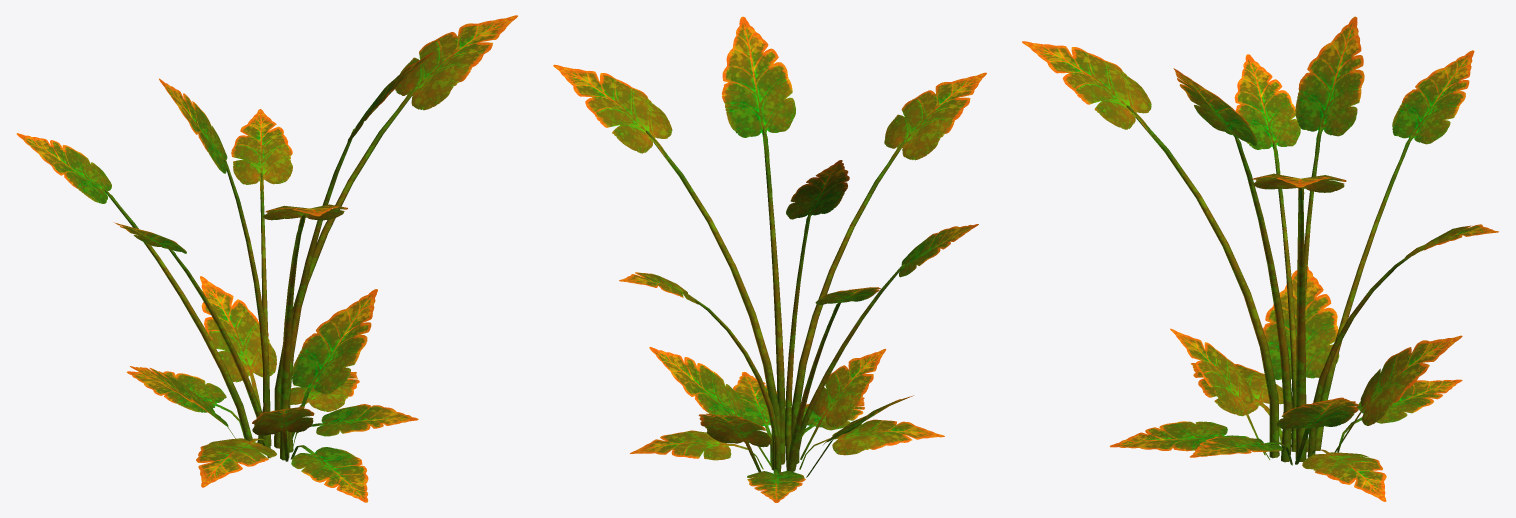
Rendered from SM_Elephant_ear_bush_LOD0.fbx.
3 renders of one model, left to right at view 1: azimuth 30°, elevation 25°; view 2: azimuth 150°, elevation 25°; view 3: azimuth 270°, elevation 25°, orthographic. The views are drawn at different scales.
Visible parts, largest first — view 1: SM_Elephant_ear_bush_LOD0_LOD0; view 2: SM_Elephant_ear_bush_LOD0_LOD0; view 3: SM_Elephant_ear_bush_LOD0_LOD0.
Part boxes in pixels (x1=…): SM_Elephant_ear_bush_LOD0_LOD0: x1=16, y1=15, x2=517, y2=502; SM_Elephant_ear_bush_LOD0_LOD0: x1=553, y1=16, x2=986, y2=502; SM_Elephant_ear_bush_LOD0_LOD0: x1=1022, y1=16, x2=1498, y2=501.
Bounding box in the file's own units: 462 × 420 × 428.
